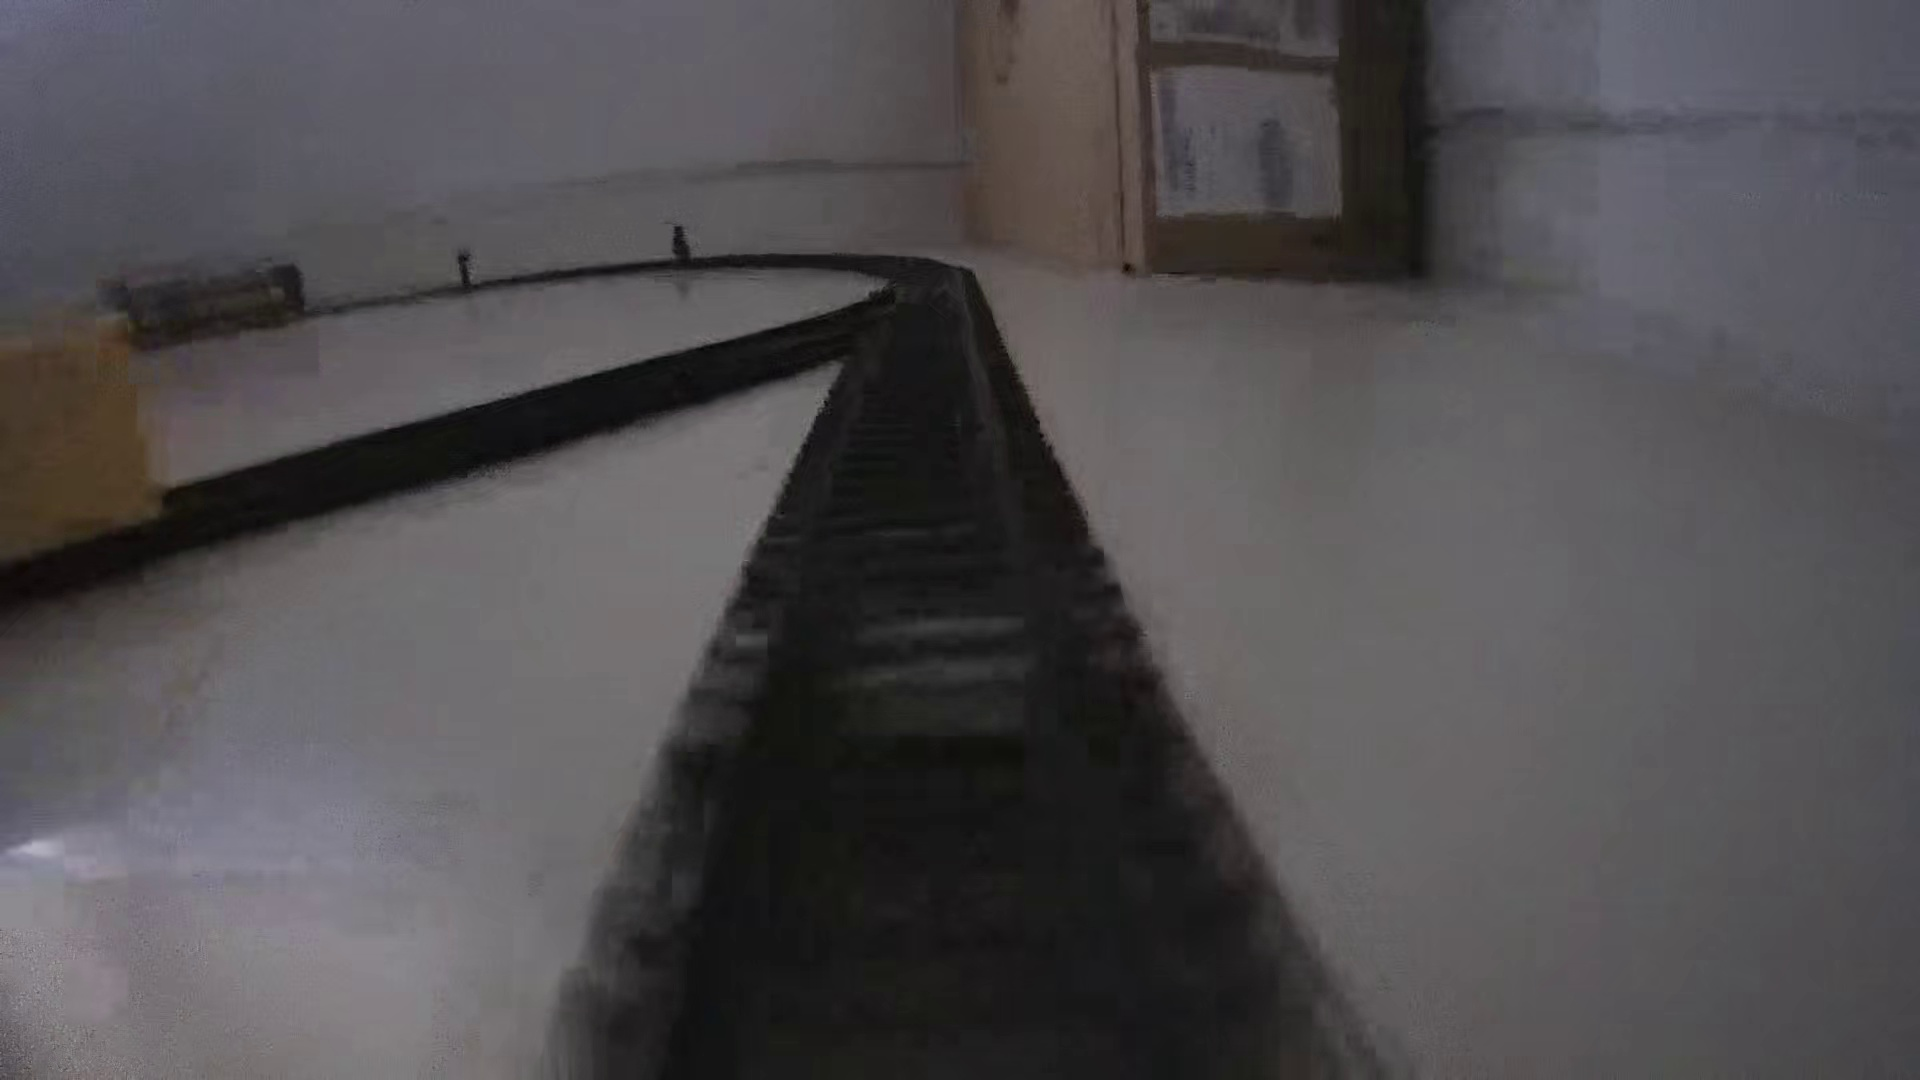people: (670, 222, 695, 264)
